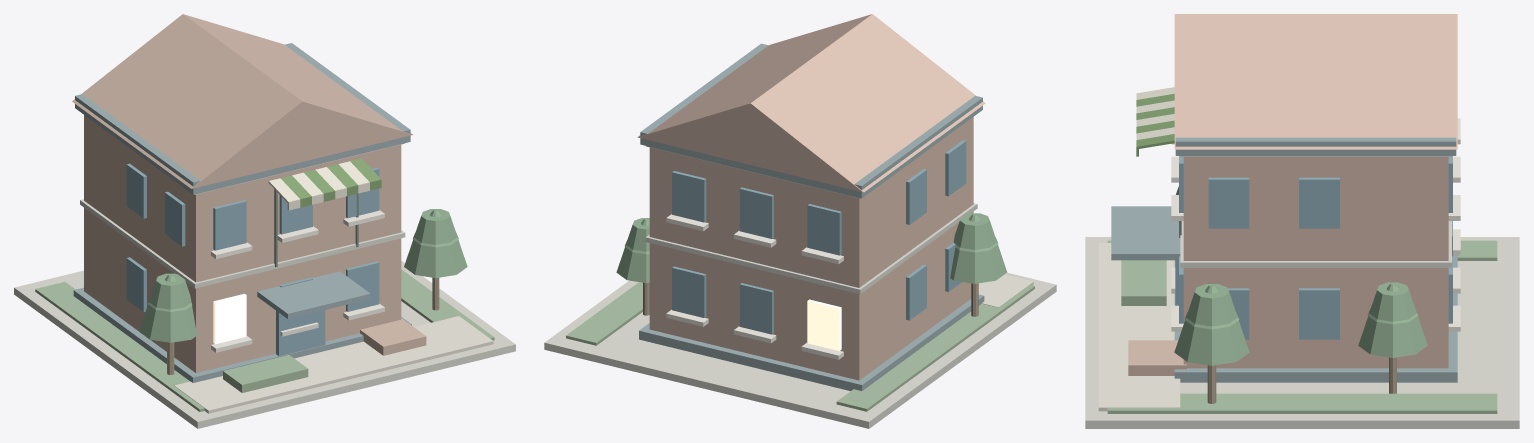
The model's file is remaster_house_1.glb.
The picture shows the model from 3 angles, left to right: view 1: azimuth 30°, elevation 25°; view 2: azimuth 150°, elevation 25°; view 3: azimuth 270°, elevation 25°; orthographic projection. The views are drawn at different scales.
Parts seen in each view (by area): view 1: remaster_house_1 brick, remaster_house_1 stone, remaster_house_1 roof, remaster_house_1 glass, remaster_house_1 cream, remaster_house_1 green, remaster_house_1 leaf, remaster_house_1 white, remaster_house_1 warm, remaster_house_1 bark; view 2: remaster_house_1 brick, remaster_house_1 stone, remaster_house_1 glass, remaster_house_1 roof, remaster_house_1 green, remaster_house_1 leaf, remaster_house_1 white, remaster_house_1 warm, remaster_house_1 cream, remaster_house_1 bark; view 3: remaster_house_1 brick, remaster_house_1 stone, remaster_house_1 roof, remaster_house_1 green, remaster_house_1 glass, remaster_house_1 cream, remaster_house_1 leaf, remaster_house_1 white, remaster_house_1 bark.
Boxes of the visible parts, bbox=[...] form: remaster_house_1 brick: bbox=[72, 14, 426, 372]; remaster_house_1 stone: bbox=[14, 143, 515, 428]; remaster_house_1 roof: bbox=[73, 43, 411, 382]; remaster_house_1 glass: bbox=[126, 163, 379, 356]; remaster_house_1 cream: bbox=[174, 316, 493, 413]; remaster_house_1 green: bbox=[35, 269, 494, 411]; remaster_house_1 leaf: bbox=[139, 209, 467, 342]; remaster_house_1 white: bbox=[211, 210, 384, 352]; remaster_house_1 warm: bbox=[213, 293, 246, 344]; remaster_house_1 bark: bbox=[167, 277, 439, 374]; remaster_house_1 brick: bbox=[637, 14, 985, 380]; remaster_house_1 stone: bbox=[544, 146, 1056, 428]; remaster_house_1 glass: bbox=[672, 140, 966, 334]; remaster_house_1 roof: bbox=[639, 43, 984, 391]; remaster_house_1 green: bbox=[566, 282, 1034, 411]; remaster_house_1 leaf: bbox=[616, 213, 1007, 283]; remaster_house_1 white: bbox=[666, 214, 843, 359]; remaster_house_1 warm: bbox=[807, 299, 841, 350]; remaster_house_1 cream: bbox=[978, 274, 1033, 307]; remaster_house_1 bark: bbox=[643, 282, 978, 316]; remaster_house_1 brick: bbox=[1128, 14, 1457, 375]; remaster_house_1 stone: bbox=[1085, 156, 1519, 428]; remaster_house_1 roof: bbox=[1111, 137, 1457, 382]; remaster_house_1 green: bbox=[1107, 240, 1497, 413]; remaster_house_1 glass: bbox=[1175, 156, 1452, 339]; remaster_house_1 cream: bbox=[1098, 243, 1180, 411]; remaster_house_1 leaf: bbox=[1174, 186, 1427, 365]; remaster_house_1 white: bbox=[1171, 118, 1460, 331]; remaster_house_1 bark: bbox=[1207, 357, 1396, 403].
Bounding box in the file's own units: 9.64 × 7.64 × 9.6.
